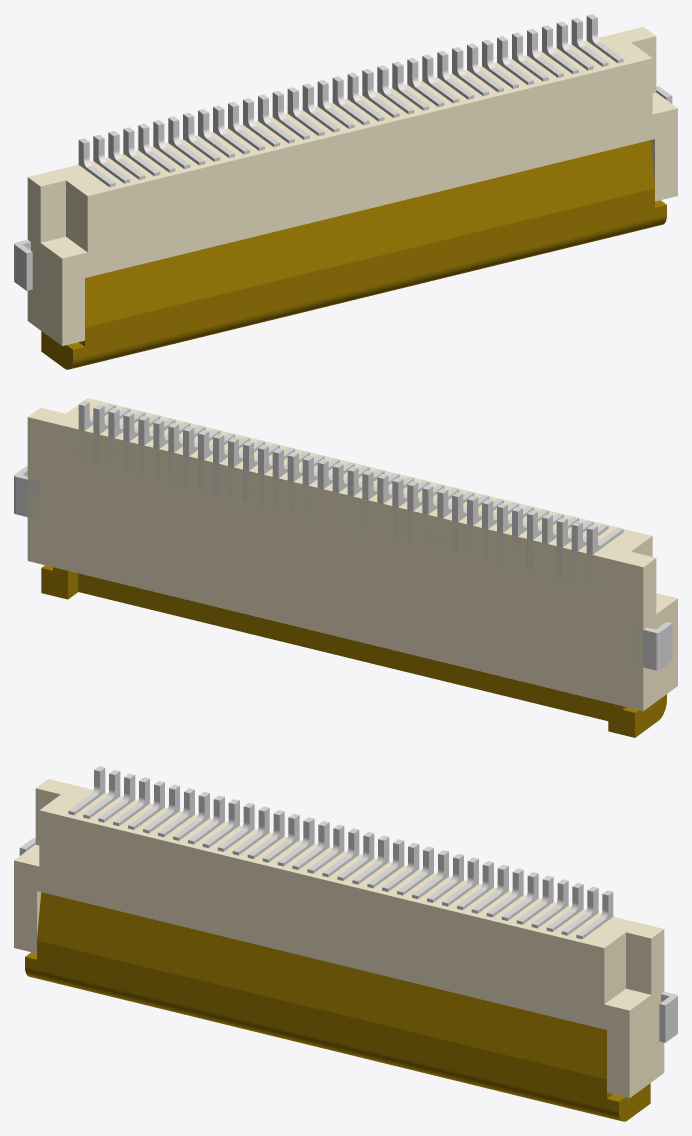
Rendered from Hirose_FH12-35S-0.5SH_1x35-1MP_P0.50mm_Horizontal.glb.
3 views of the same model, one above another, from view 1: azimuth 30°, elevation 25°; view 2: azimuth 150°, elevation 25°; view 3: azimuth 330°, elevation 25° (orthographic).
Parts seen in each view (by area): view 1: Shape_IndexedFaceSet.005, Shape_IndexedFaceSet.023, Shape_IndexedFaceSet.016, Shape_IndexedFaceSet, Shape_IndexedFaceSet.018, Shape_IndexedFaceSet.008, Shape_IndexedFaceSet.007, Shape_IndexedFaceSet.006, Shape_IndexedFaceSet.020, Shape_IndexedFaceSet.014; view 2: Shape_IndexedFaceSet.001, Shape_IndexedFaceSet.030, Shape_IndexedFaceSet, Shape_IndexedFaceSet.008, Shape_IndexedFaceSet.444, Shape_IndexedFaceSet.027, Shape_IndexedFaceSet.026, Shape_IndexedFaceSet.020, Shape_IndexedFaceSet.453; view 3: Shape_IndexedFaceSet.005, Shape_IndexedFaceSet.023, Shape_IndexedFaceSet.016, Shape_IndexedFaceSet, Shape_IndexedFaceSet.018, Shape_IndexedFaceSet.002, Shape_IndexedFaceSet.003, Shape_IndexedFaceSet.004, Shape_IndexedFaceSet.017, Shape_IndexedFaceSet.010.
Boxes of the visible parts, x1,y1,x2,y2 form: Shape_IndexedFaceSet.005: (62,58,677,345); Shape_IndexedFaceSet.023: (85,140,654,327); Shape_IndexedFaceSet.016: (73,188,666,358); Shape_IndexedFaceSet: (28,27,655,195); Shape_IndexedFaceSet.018: (69,214,666,369); Shape_IndexedFaceSet.008: (27,177,62,345); Shape_IndexedFaceSet.007: (40,180,65,242); Shape_IndexedFaceSet.006: (66,180,87,251); Shape_IndexedFaceSet.020: (41,331,72,369); Shape_IndexedFaceSet.014: (41,236,87,258); Shape_IndexedFaceSet.001: (27,417,643,710); Shape_IndexedFaceSet.030: (78,573,608,720); Shape_IndexedFaceSet: (28,398,655,567); Shape_IndexedFaceSet.008: (643,558,677,710); Shape_IndexedFaceSet.444: (15,477,39,519); Shape_IndexedFaceSet.027: (608,702,634,737); Shape_IndexedFaceSet.026: (41,567,67,599); Shape_IndexedFaceSet.020: (635,694,666,737); Shape_IndexedFaceSet.453: (631,629,655,669); Shape_IndexedFaceSet.005: (14,810,629,1097); Shape_IndexedFaceSet.023: (37,892,606,1079); Shape_IndexedFaceSet.016: (25,940,618,1110); Shape_IndexedFaceSet: (36,779,663,947); Shape_IndexedFaceSet.018: (25,966,622,1121); Shape_IndexedFaceSet.002: (629,929,664,1097); Shape_IndexedFaceSet.003: (626,932,651,994); Shape_IndexedFaceSet.004: (604,932,625,1003); Shape_IndexedFaceSet.017: (619,1083,650,1121); Shape_IndexedFaceSet.010: (604,988,650,1010).
Size of the model in its own units: 8.5 by 2.52 by 0.7876.
